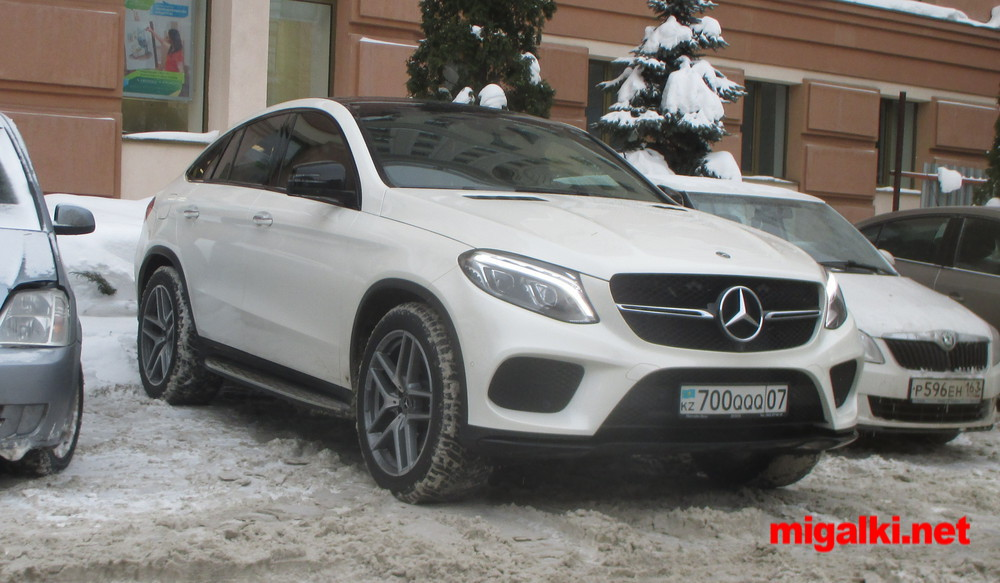license_plate: (679, 383, 789, 416)
